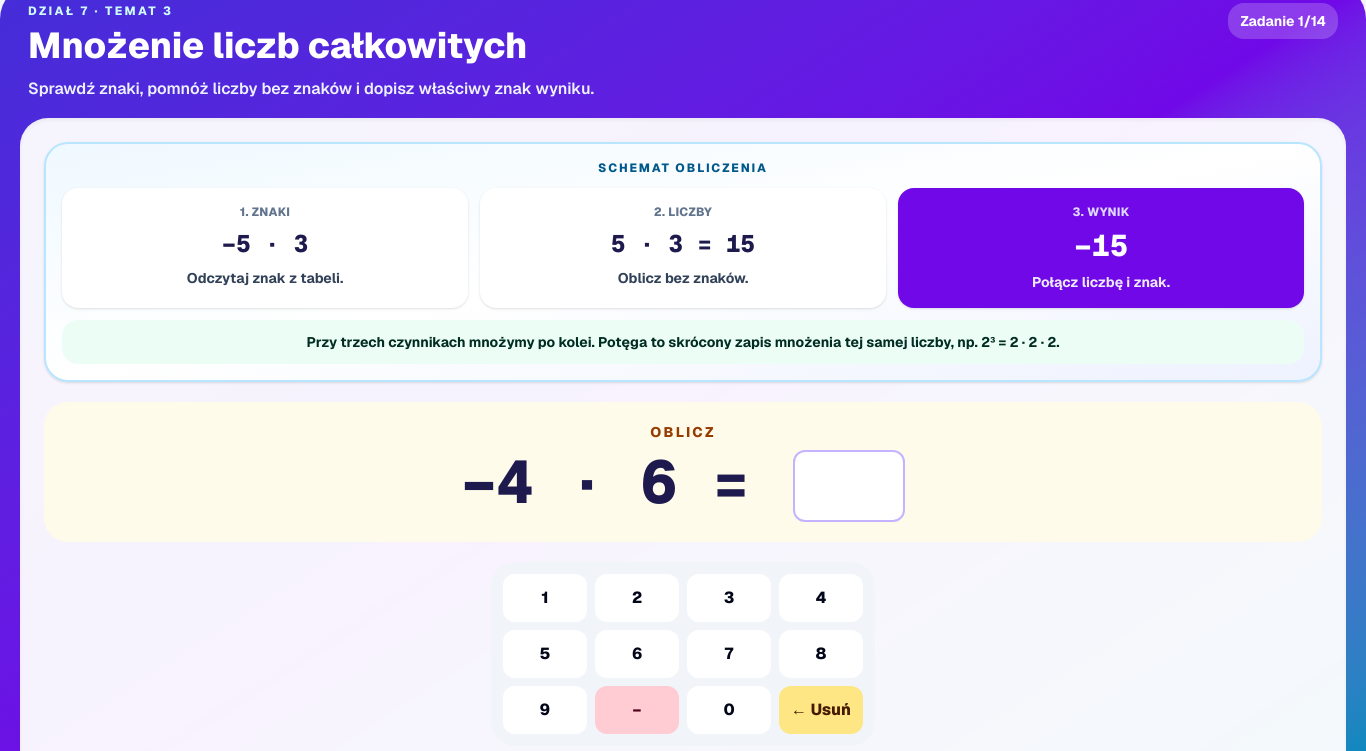
Test: IntegerMulDivLessonLab › przy mnożeniu pozwala wpisać wynik wyłącznie klawiaturą lekcyjną
Click the button "−": click(637, 710) [595,686,679,734]
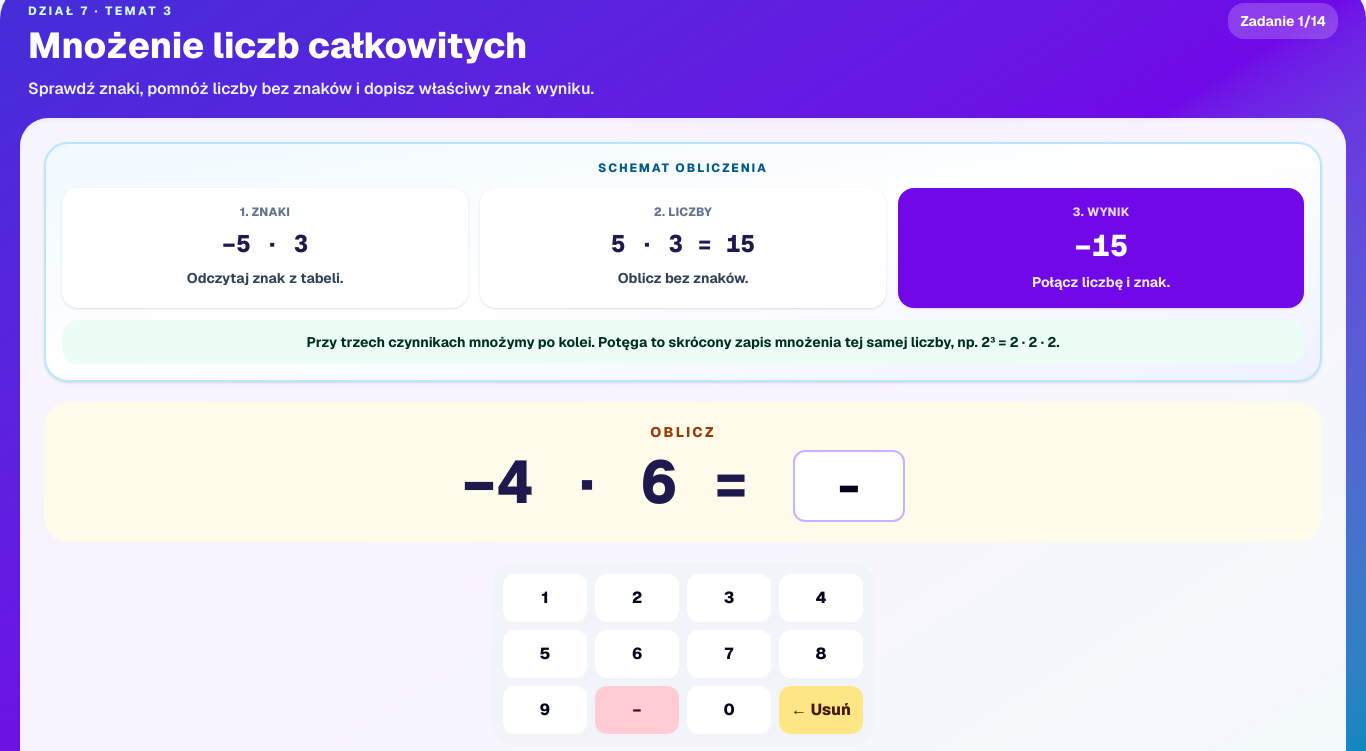
Click the button "2": click(637, 598) [595,574,679,622]
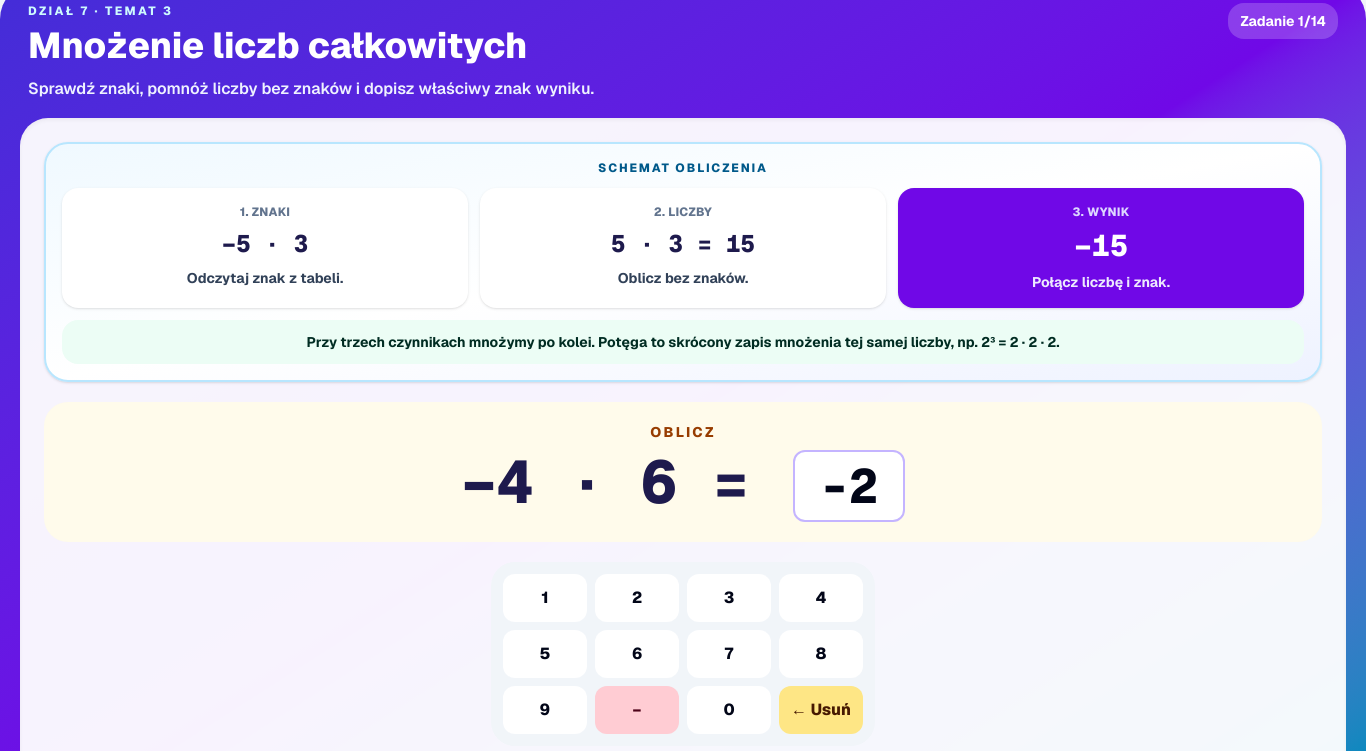
Click the button "4": click(821, 598) [779,574,863,622]
(page scrolled)
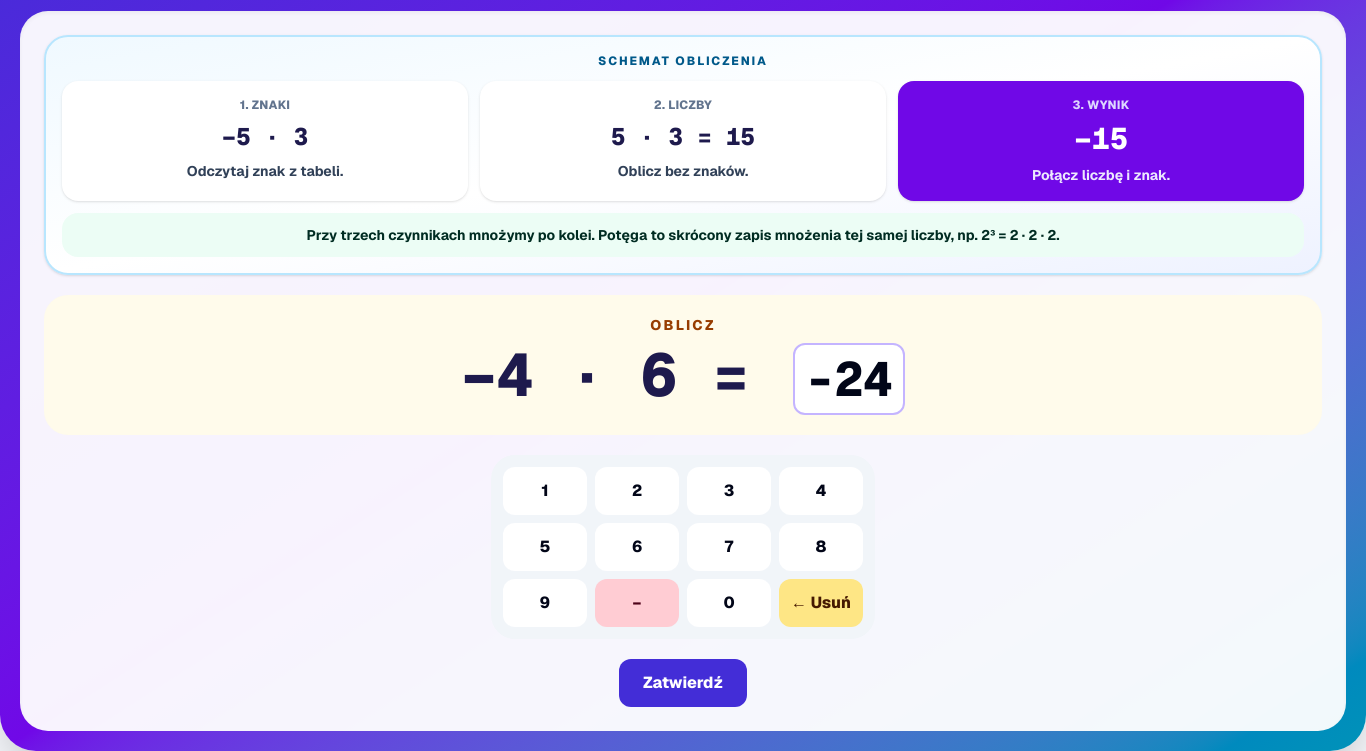
Now the field named "Wynik działania −4 · 6" holds "-24", box [793,343,905,415]
Click the button "Zatwierdź": click(683, 683) [619,659,747,707]
(page scrolled)
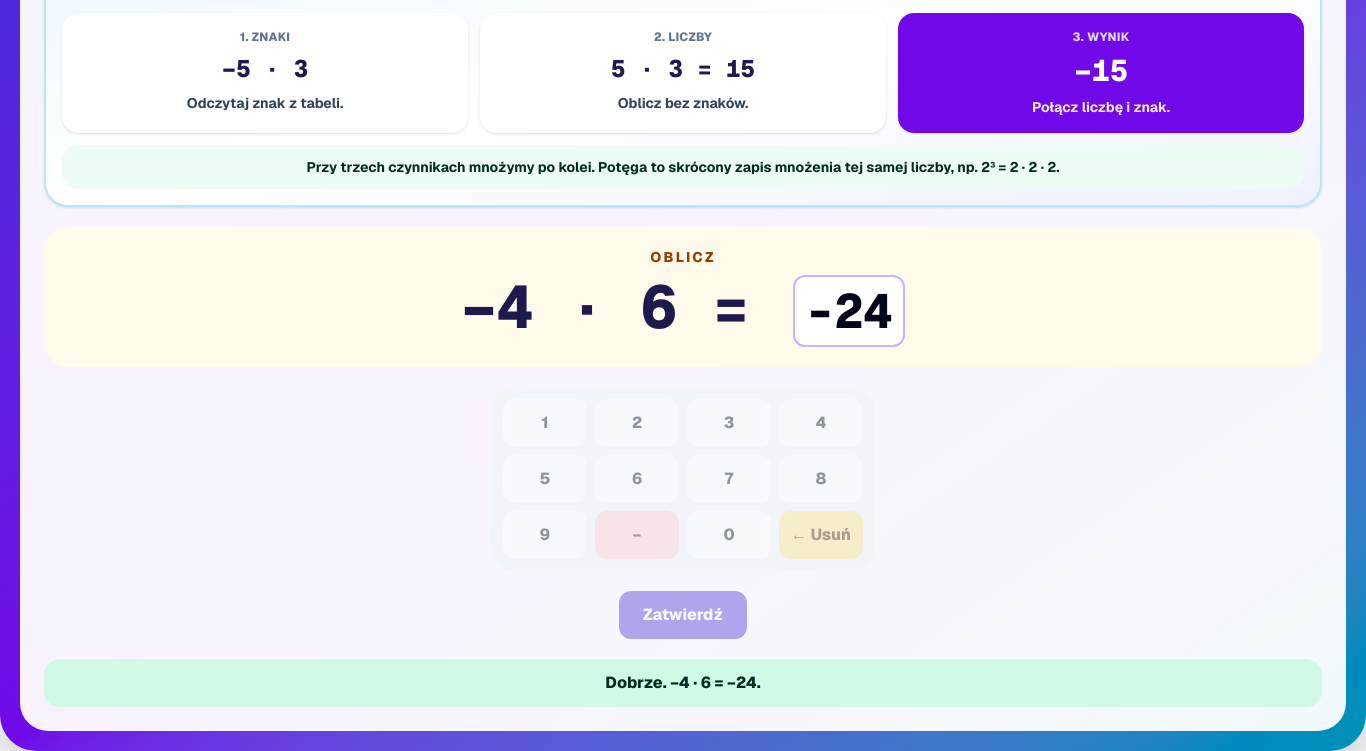
Now the message shows "Dobrze", box [605,672,761,693]
